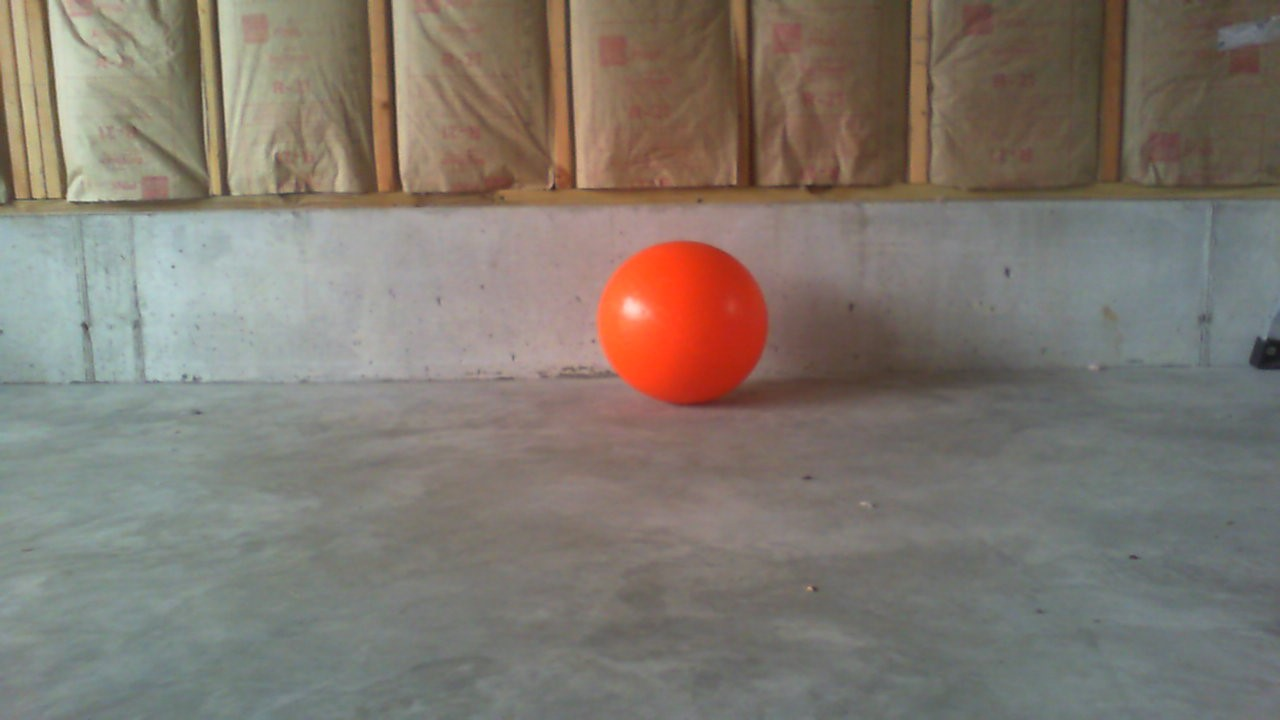Ball: (596, 240, 767, 404)
